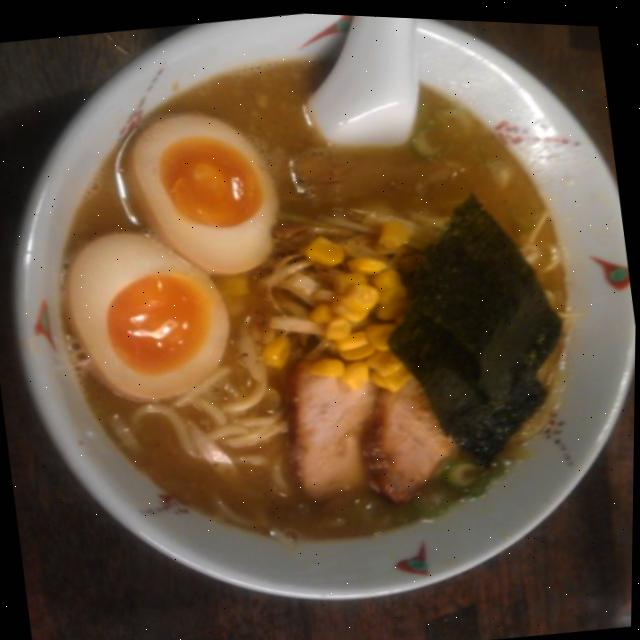面条主食: (5, 0, 640, 635)
